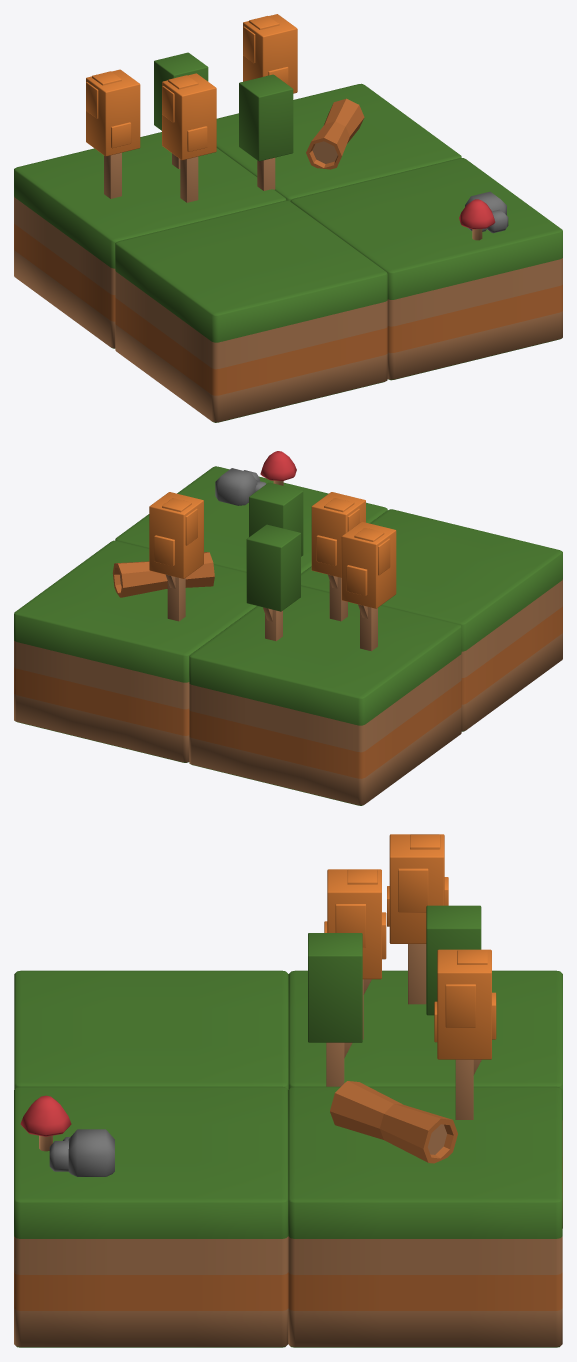
The model's file is Obstaculo_arboles.fbx.
3 renders of one model, top to bottom at view 1: azimuth 30°, elevation 25°; view 2: azimuth 150°, elevation 25°; view 3: azimuth 270°, elevation 25°, orthographic. The views are drawn at different scales.
Parts seen in each view (by area): view 1: polySurface12; view 2: polySurface12; view 3: polySurface12.
Part boxes in pixels (x1,y1,x2,y2): polySurface12: [14, 14, 562, 422]; polySurface12: [14, 451, 562, 805]; polySurface12: [14, 834, 562, 1347].
Size of the model in its own units: 400 by 246 by 400.
